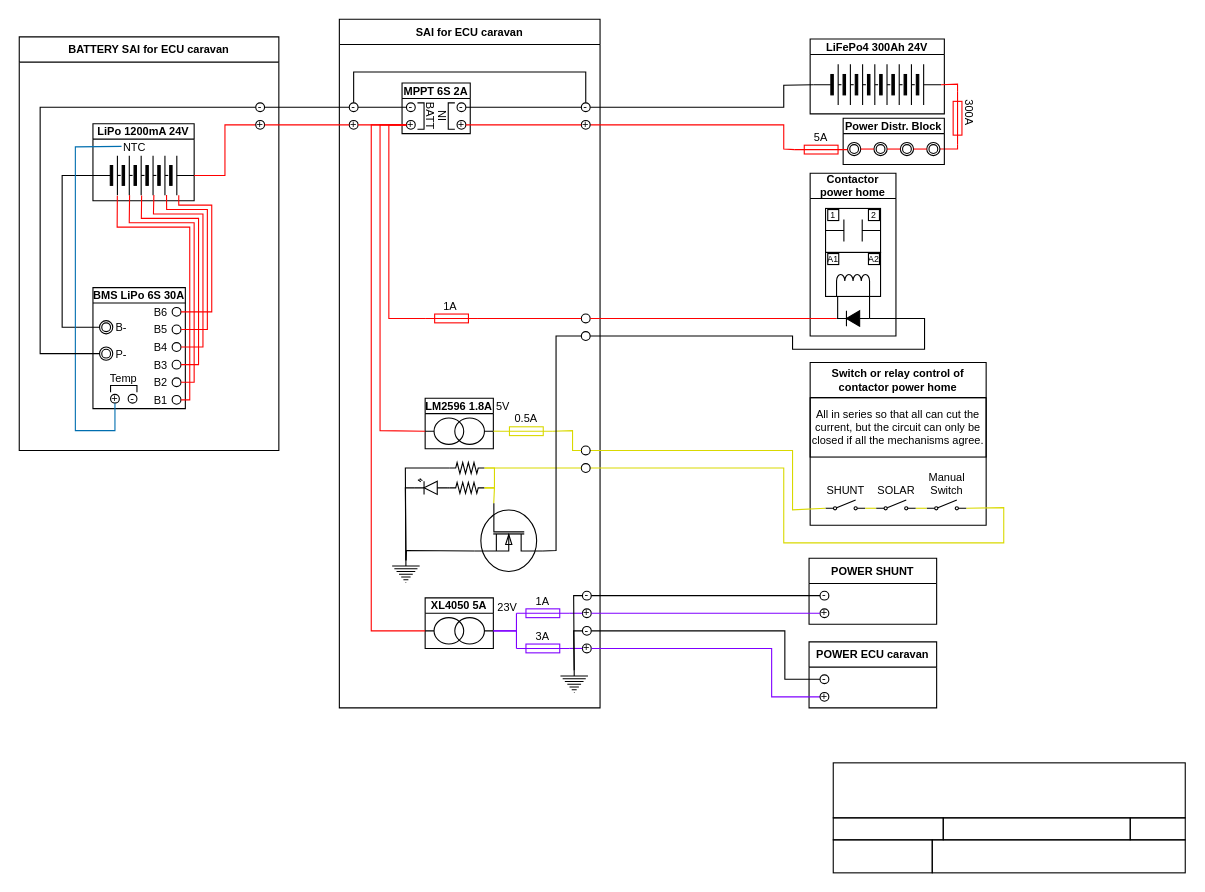
Image size: 1205x892. Some labels were removed from this diagram. The centre of each missing label's shape, as x and y in pixels:
Date: 01-02-2022 Place: Málaga: pixel 882 856
Developer: c2mismo: pixel 887 828
License: GNU GPL3 https://www.gnu.org/licenses/gpl.html: pixel 1058 856
Page 1/1: pixel 1157 828
PROJECT: SAI for ECU caravan.: pixel 1008 790
WEB: github.com/c2mismo/caravan: pixel 1036 828
